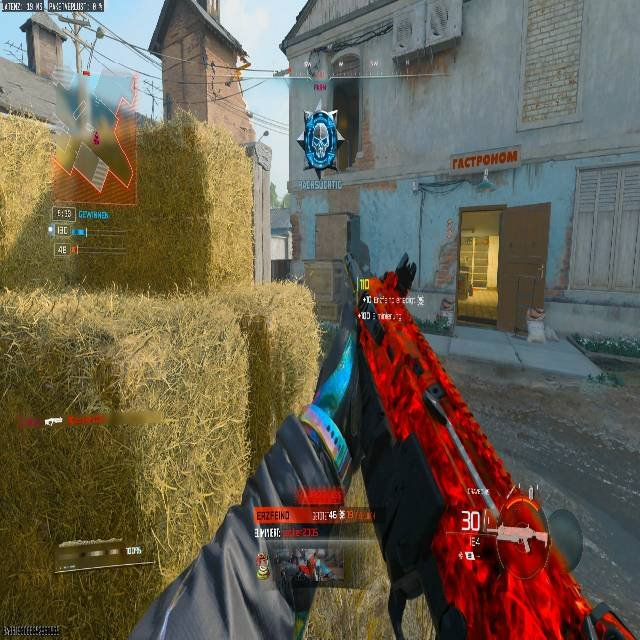player: (303, 107, 340, 173), (356, 281, 378, 328)
